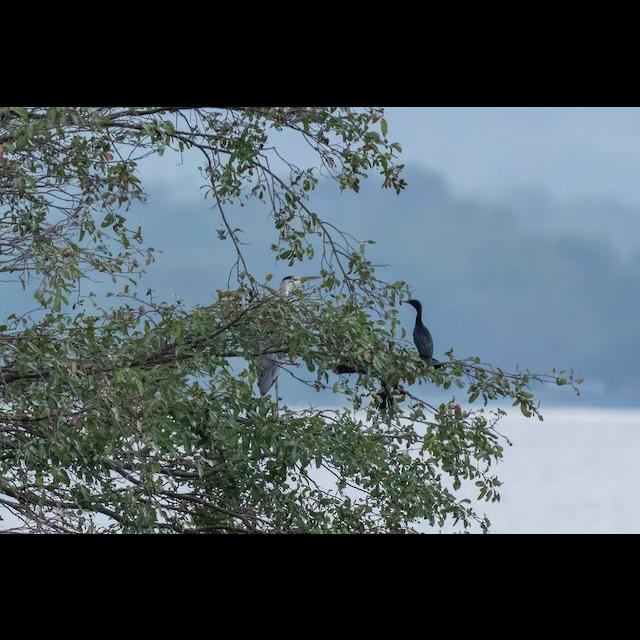cormorant: (400, 294, 440, 364)
